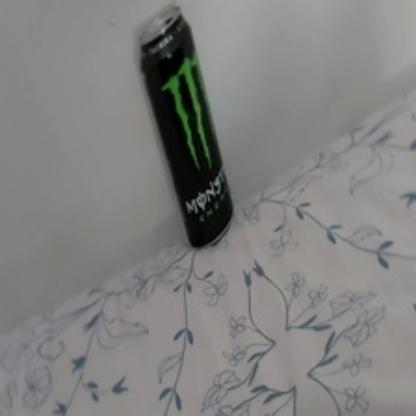Can: (137, 5, 233, 250)
